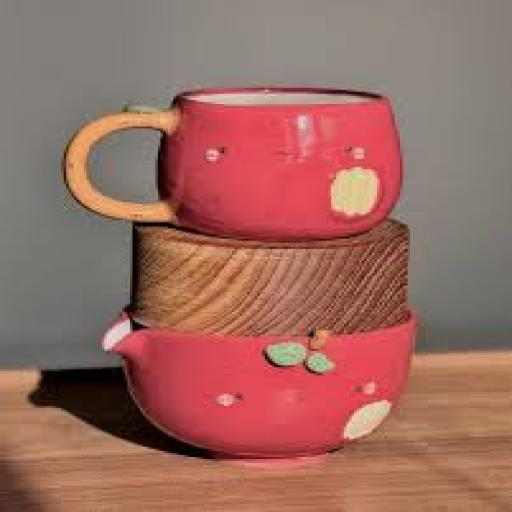cup: (62, 86, 404, 240)
